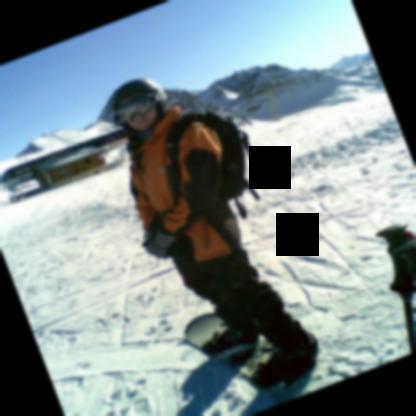backpack: (165, 109, 260, 220)
